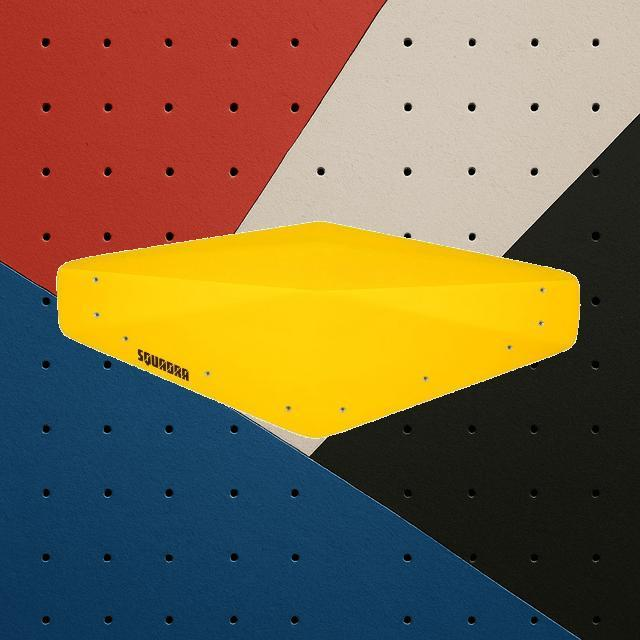Volume: (56, 220, 582, 438)
